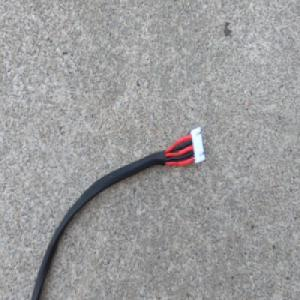Wire: (28, 122, 207, 300)
